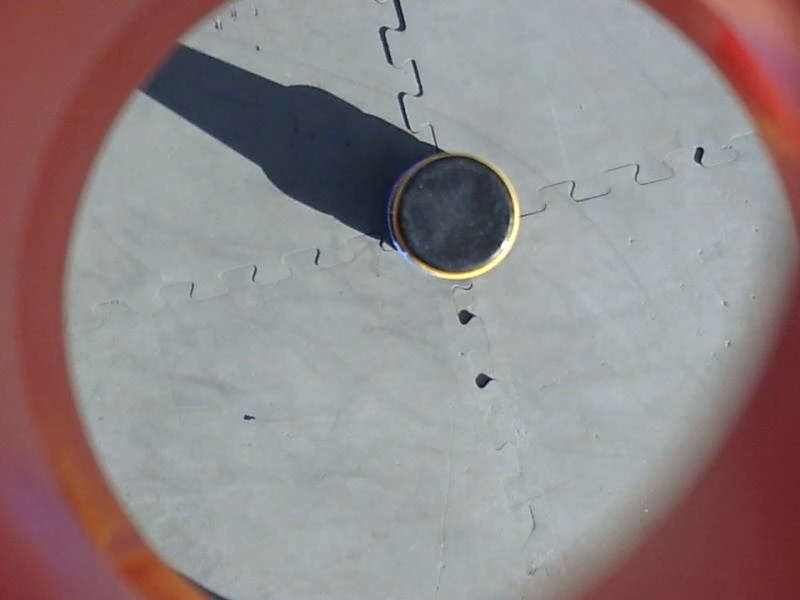tip: (387, 148, 523, 284)
